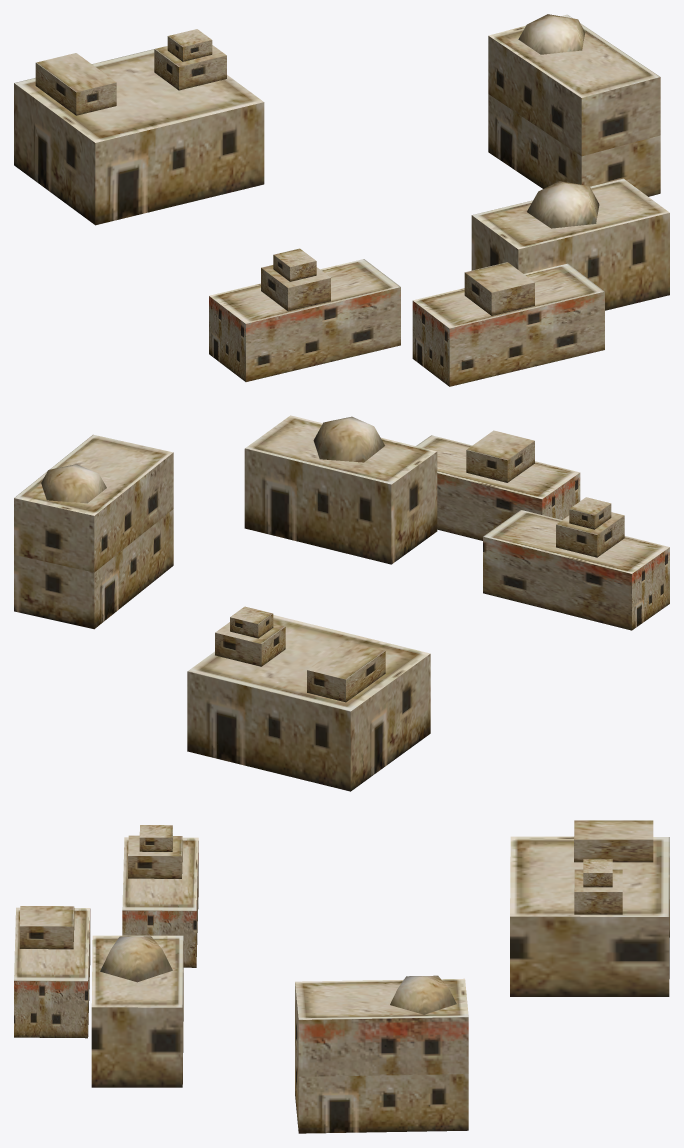
Rendered from settlement_seleucid_eastern_buildings.dae.
The picture shows the model from 3 angles, top to bottom: view 1: azimuth 30°, elevation 25°; view 2: azimuth 150°, elevation 25°; view 3: azimuth 270°, elevation 25°; orthographic projection. The views are drawn at different scales.
Visible parts, largest first — view 1: Mesh1_Eastern_Buildings_Apart___; view 2: Mesh1_Eastern_Buildings_Apart___; view 3: Mesh1_Eastern_Buildings_Apart___.
Part boxes in pixels (x1=…): Mesh1_Eastern_Buildings_Apart___: x1=14, y1=14, x2=669, y2=386; Mesh1_Eastern_Buildings_Apart___: x1=14, y1=415, x2=669, y2=791; Mesh1_Eastern_Buildings_Apart___: x1=14, y1=820, x2=669, y2=1133.
Size of the model in its own units: 15.07 by 4.01 by 17.44.
